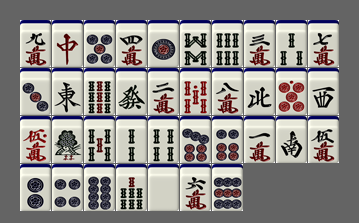0m: (20, 116, 51, 163)
0p: (276, 68, 307, 115)
0s: (180, 68, 211, 115)
1m: (244, 116, 275, 163)
1p: (148, 20, 179, 67)
1s: (52, 116, 83, 163)
1z: (52, 68, 83, 115)
2m: (148, 68, 179, 115)
2p: (20, 164, 51, 211)
2s: (116, 116, 147, 163)
2z: (276, 116, 307, 163)
3m: (244, 20, 275, 67)
3p: (20, 68, 51, 115)
3s: (276, 20, 307, 67)
3z: (308, 68, 339, 115)
4m: (116, 20, 147, 67)
4p: (52, 164, 83, 211)
4s: (148, 116, 179, 163)
4z: (244, 68, 275, 115)
5m: (308, 116, 339, 163)
5p: (84, 20, 115, 67)
5s: (84, 116, 115, 163)
5z: (148, 164, 179, 211)
6m: (180, 164, 211, 211)
6p: (212, 116, 243, 163)
6s: (212, 20, 243, 67)
6z: (116, 68, 147, 115)
7m: (308, 20, 339, 67)
7p: (180, 116, 211, 163)
7s: (116, 164, 147, 211)
7z: (52, 20, 83, 67)
8m: (212, 68, 243, 115)
8p: (84, 164, 115, 211)
8s: (180, 20, 211, 67)
9m: (20, 20, 51, 67)
9p: (212, 164, 243, 211)
9s: (84, 68, 115, 115)
